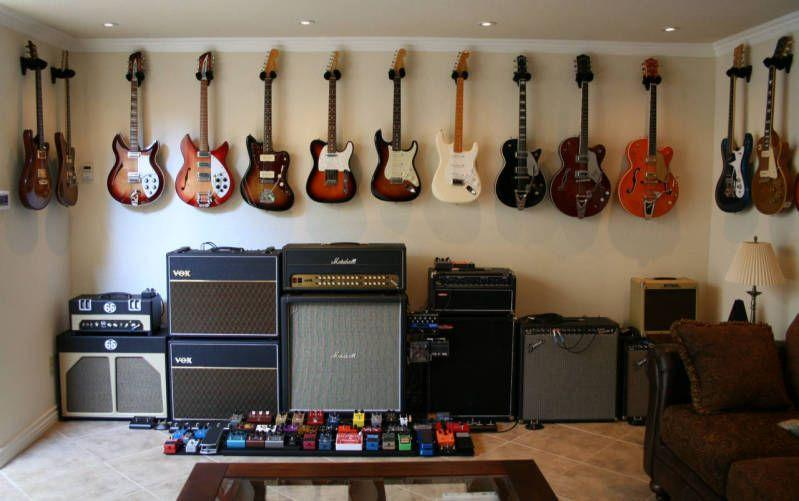acousticguitar: (551, 53, 613, 220), (619, 56, 681, 221), (174, 48, 232, 210), (240, 49, 297, 212), (302, 47, 358, 205), (108, 49, 162, 208), (371, 46, 424, 206), (431, 47, 483, 208), (496, 51, 546, 209), (712, 42, 752, 213), (754, 34, 791, 218), (15, 42, 51, 211), (56, 45, 78, 210)
